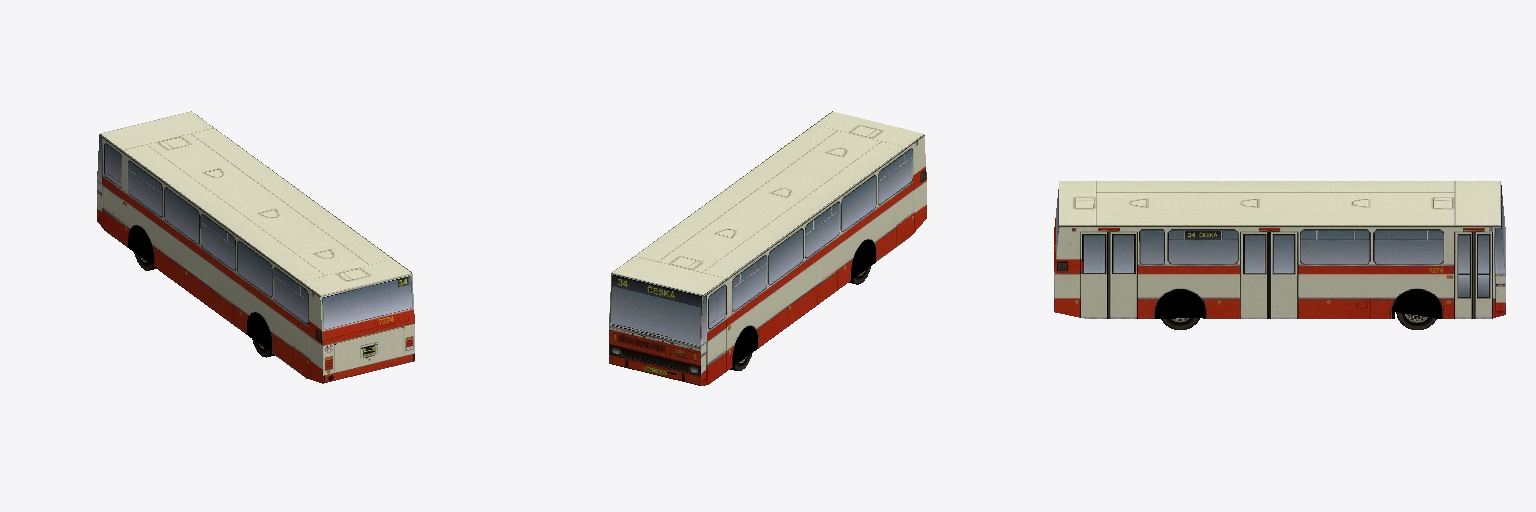
3 views of the same model, side by side, from view 1: azimuth 30°, elevation 25°; view 2: azimuth 150°, elevation 25°; view 3: azimuth 270°, elevation 25° (orthographic).
Parts seen in each view (by area): view 1: Box001; view 2: Box001; view 3: Box001.
Part boxes in pixels (left/top/right/bottom): Box001: left=97, top=111, right=414, bottom=383; Box001: left=609, top=111, right=926, bottom=385; Box001: left=1054, top=181, right=1505, bottom=318.
Size of the model in its own units: 2.88 by 3.15 by 12.23.
1 materials, 1 textured.